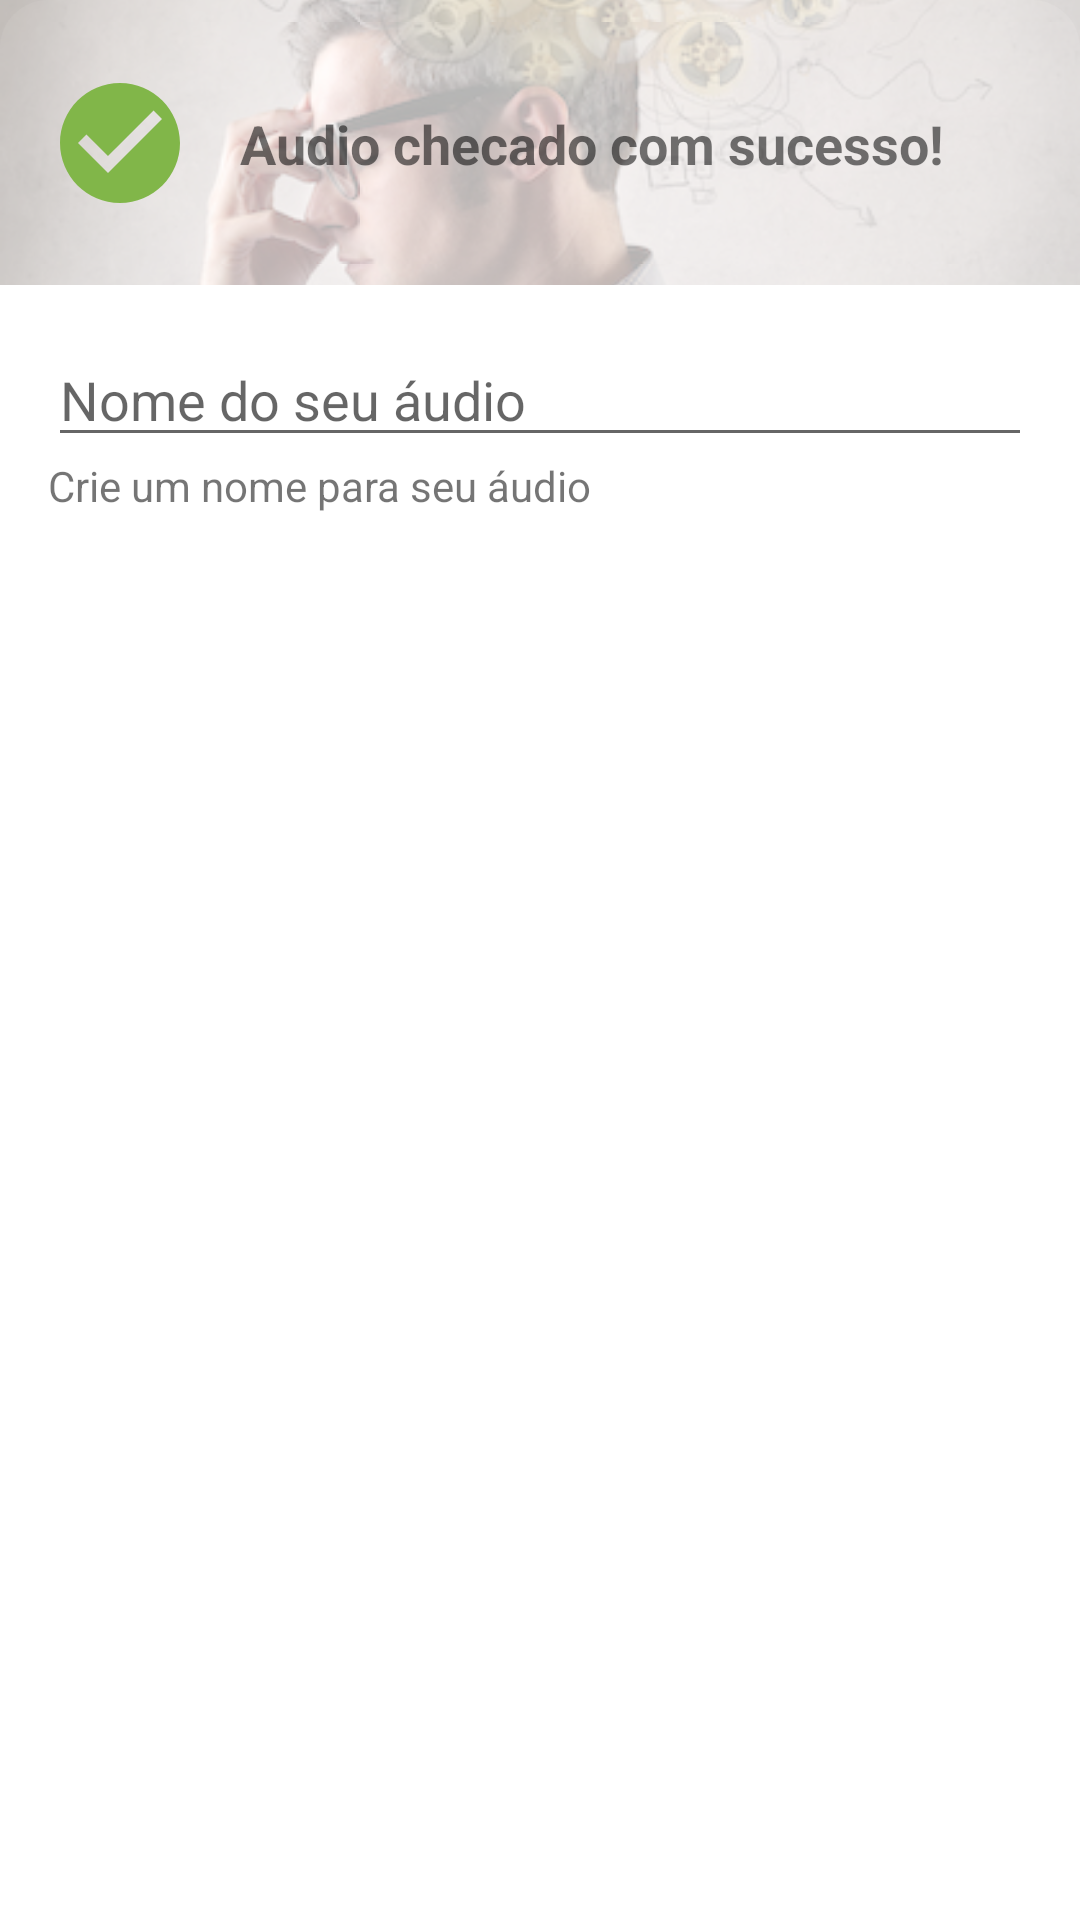

Screen size 1080×1920. Icon name, then its box in pixels as (x1, y1, x2, y2):
check circle: (60, 83, 180, 203)
